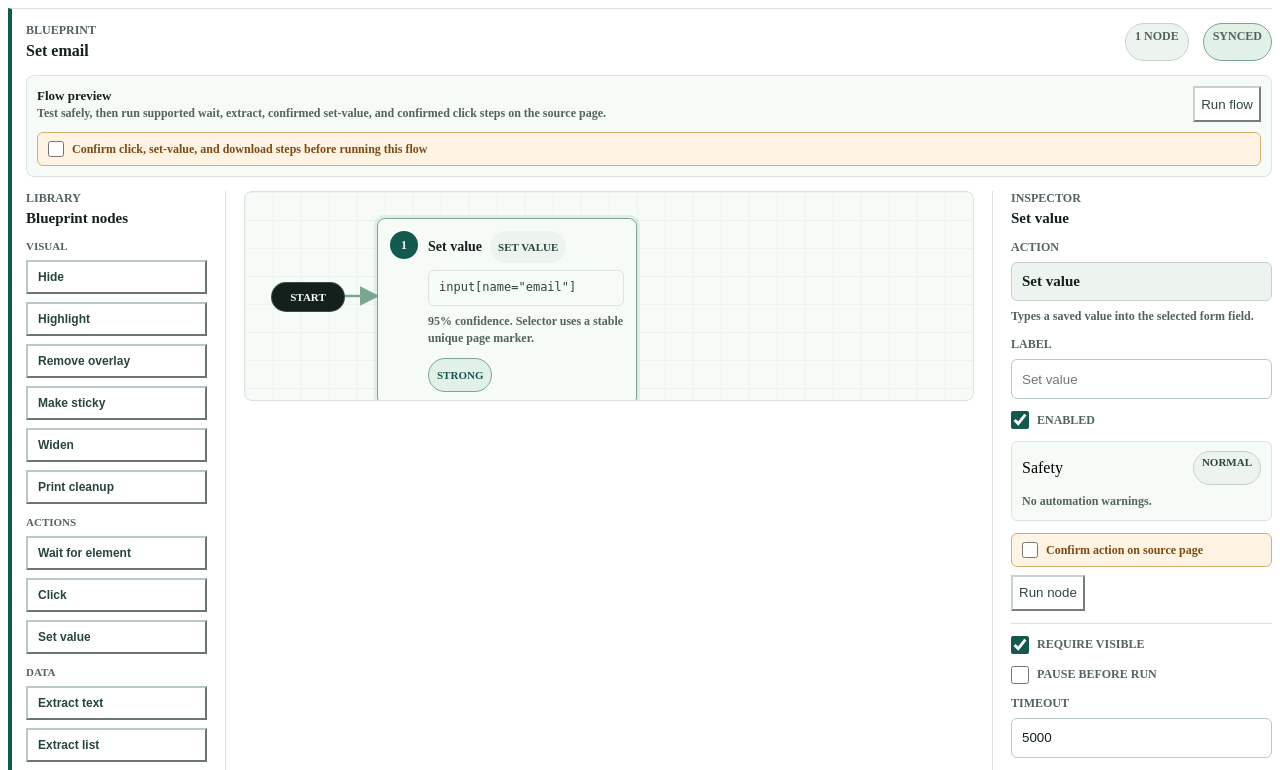
BlueprintPreview › requires explicit confirmation before running set-value nodes
Expected: the button "Run node" is disabled, left=1011, top=575, right=1085, bottom=611
Step 1. Click the checkbox labelled "Confirm action on source page" → [1030, 550], box left=1022, top=542, right=1038, bottom=558
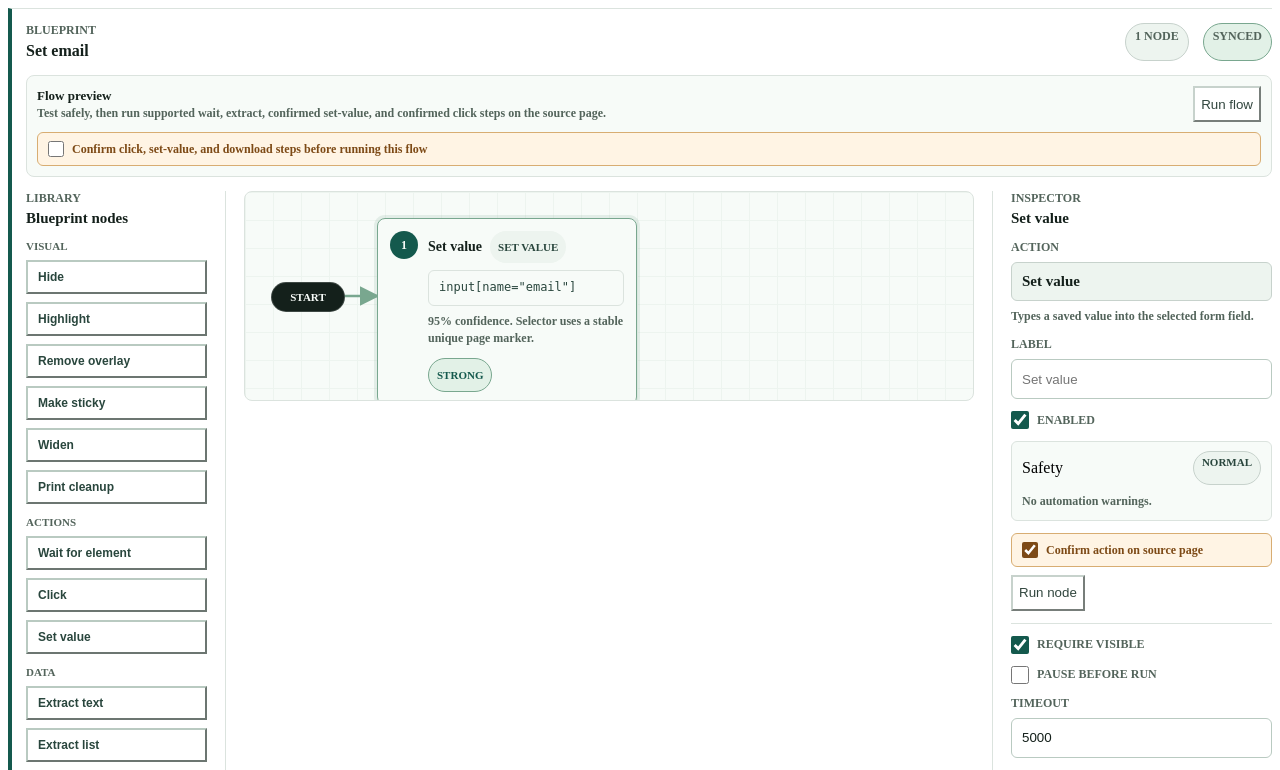
Step 2. Click the button "Run node" → [1048, 593], box left=1011, top=575, right=1085, bottom=611
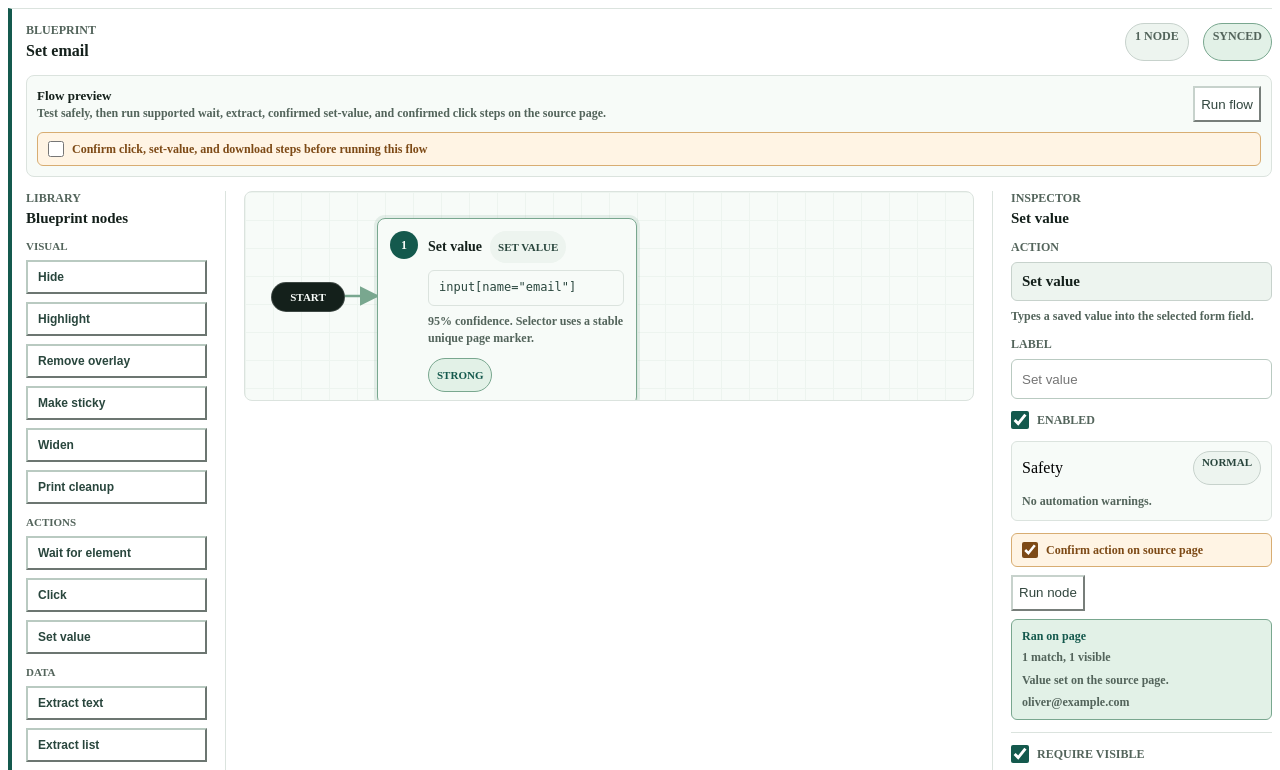
Expected: the text "Ran on page" is shown, left=1022, top=629, right=1086, bottom=643
Expected: the text "Value set on the source page." is shown, left=1022, top=672, right=1169, bottom=686
Expected: the text "oliver@example.com" is shown, left=1022, top=695, right=1130, bottom=709
